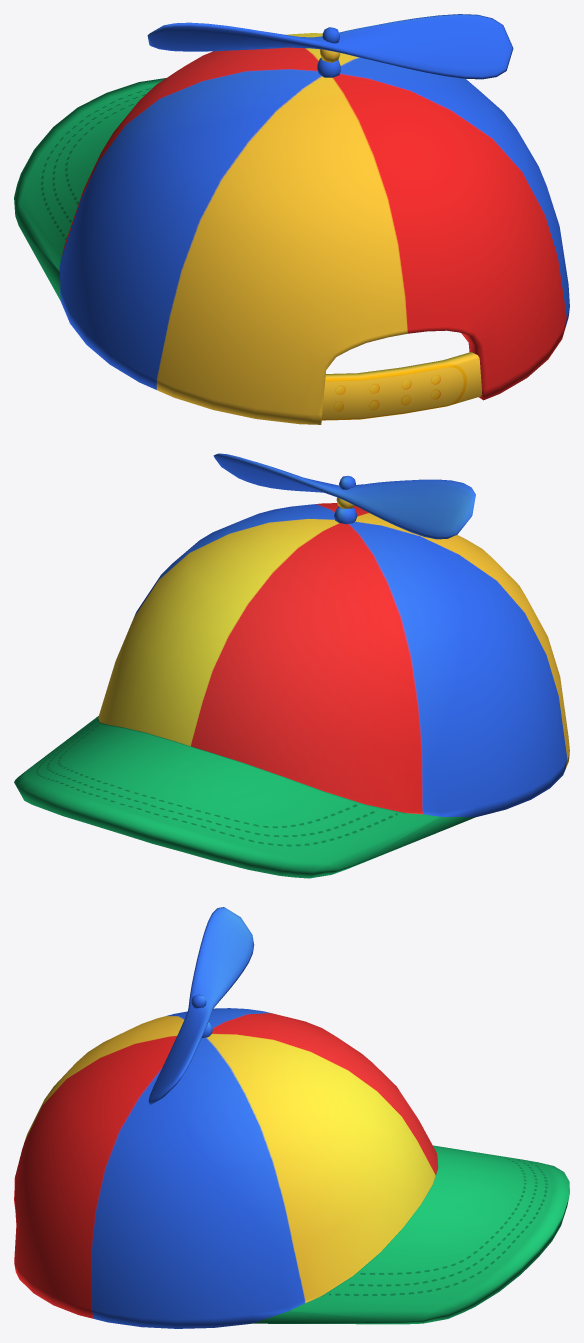
File: 01-propeller-hat-82367619524356.glb
3 renders of one model, top to bottom at view 1: azimuth 30°, elevation 25°; view 2: azimuth 150°, elevation 25°; view 3: azimuth 270°, elevation 25°, orthographic. The views are drawn at different scales.
Parts seen in each view (by area): view 1: 01-propeller-hat-82367619524356; view 2: 01-propeller-hat-82367619524356; view 3: 01-propeller-hat-82367619524356.
Boxes of the visible parts, <box> form: 01-propeller-hat-82367619524356: <box>14,14,569,424</box>; 01-propeller-hat-82367619524356: <box>14,453,569,878</box>; 01-propeller-hat-82367619524356: <box>14,907,569,1328</box>.
Bounding box in the file's own units: 1.43 × 1.04 × 1.83.
1 material, 1 textured.
